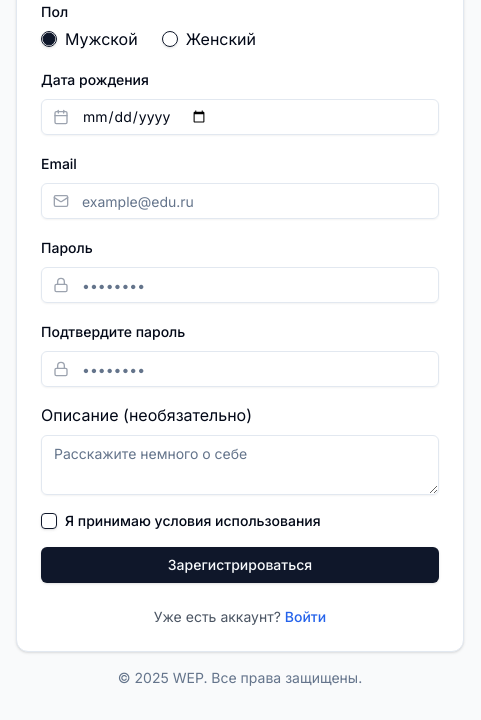
Test: Блок авторизации › Ошибка при незаполненных полях регистрации
(page scrolled)
Step 1. Click the submit button → [240, 565], box [41,547,439,583]
(page scrolled)
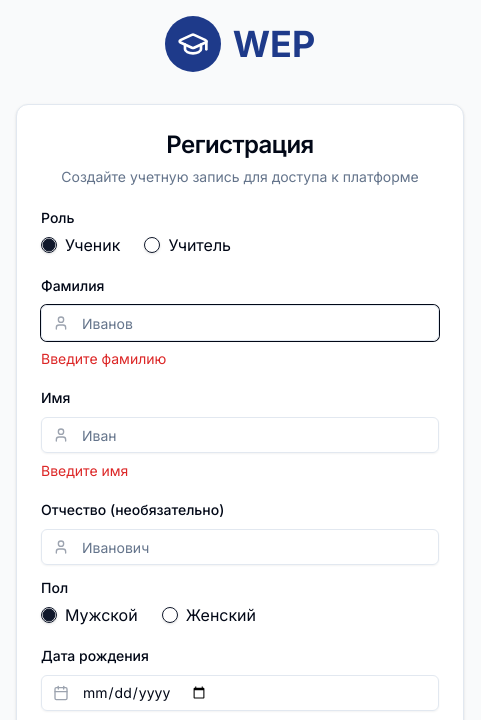
expect the text "Введите имя" is shown: met, box [41,462,128,479]
expect the text "Введите фамилию" is shown: met, box [41,350,166,367]
